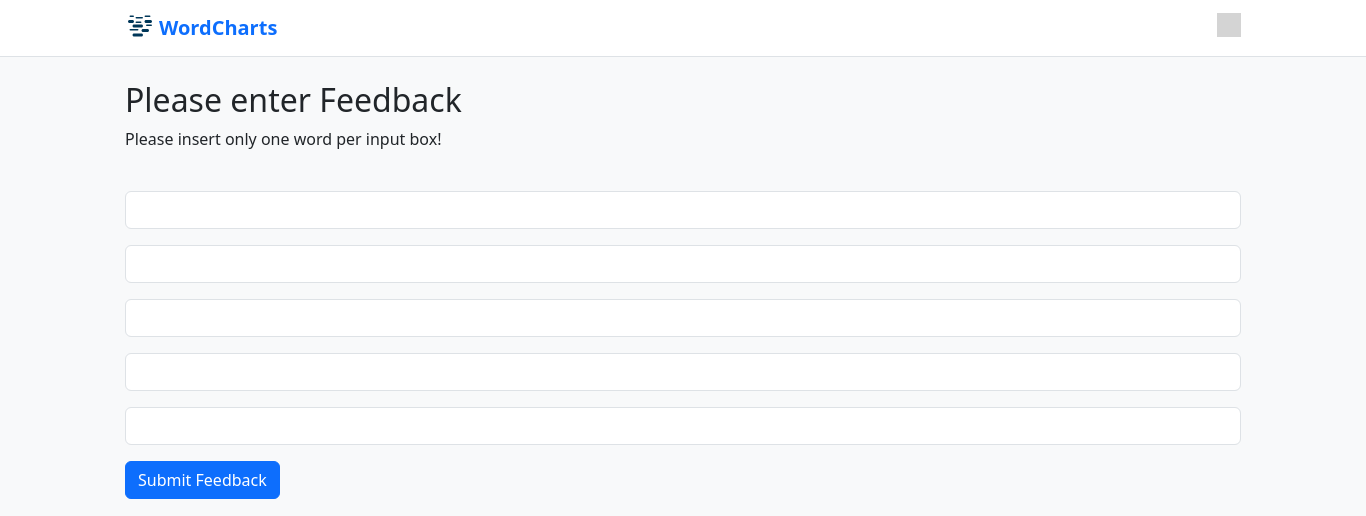
FeedbackChartUserPage › with filled in answers
This screenshot has width=1366, height=516.
Type "Answer" into the field with test id "test-input-control-word-0". click: (683, 210)
box: [125,191,1241,229]
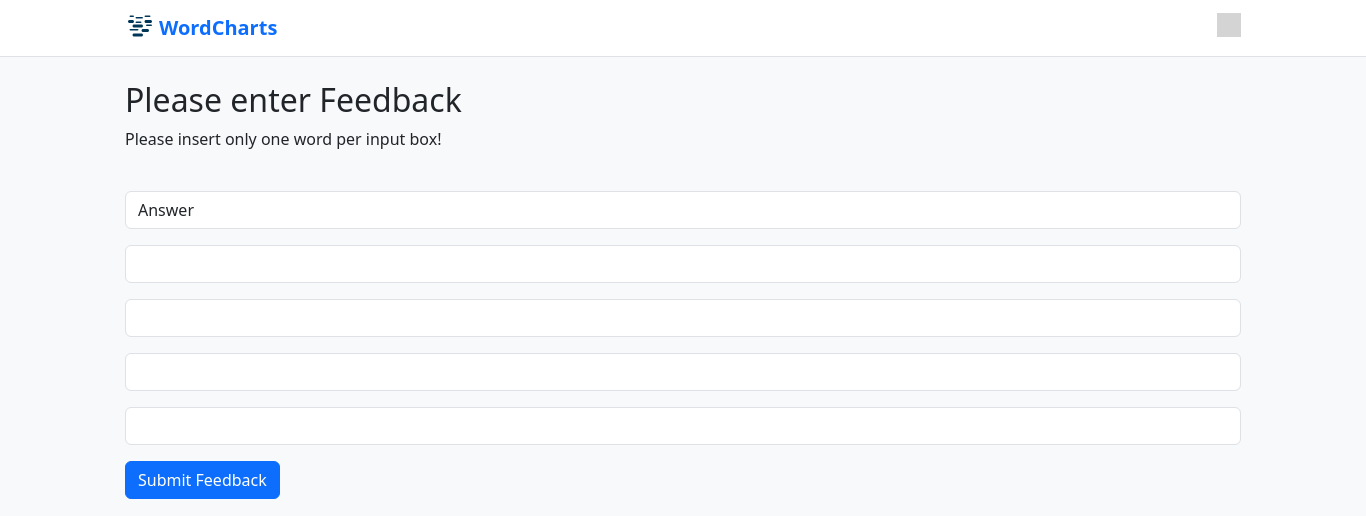
Click the button "Submit Feedback". click: click(202, 480)
box: [125,461,280,499]
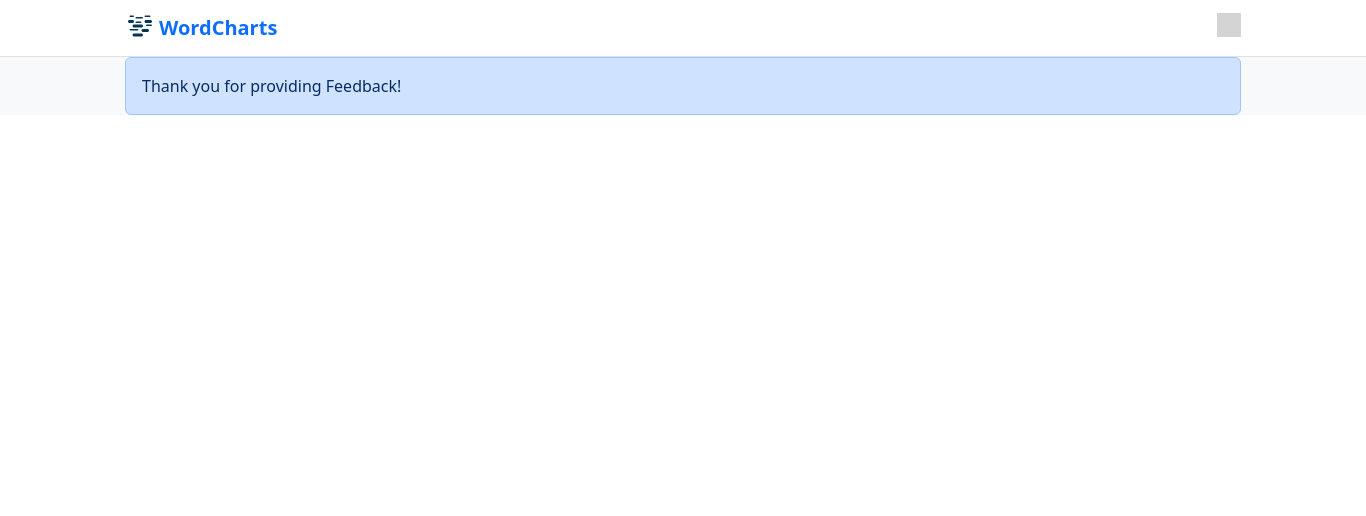
Expected: the text "Thank you for providing Feedback!" is shown, [125,57,1241,115]
